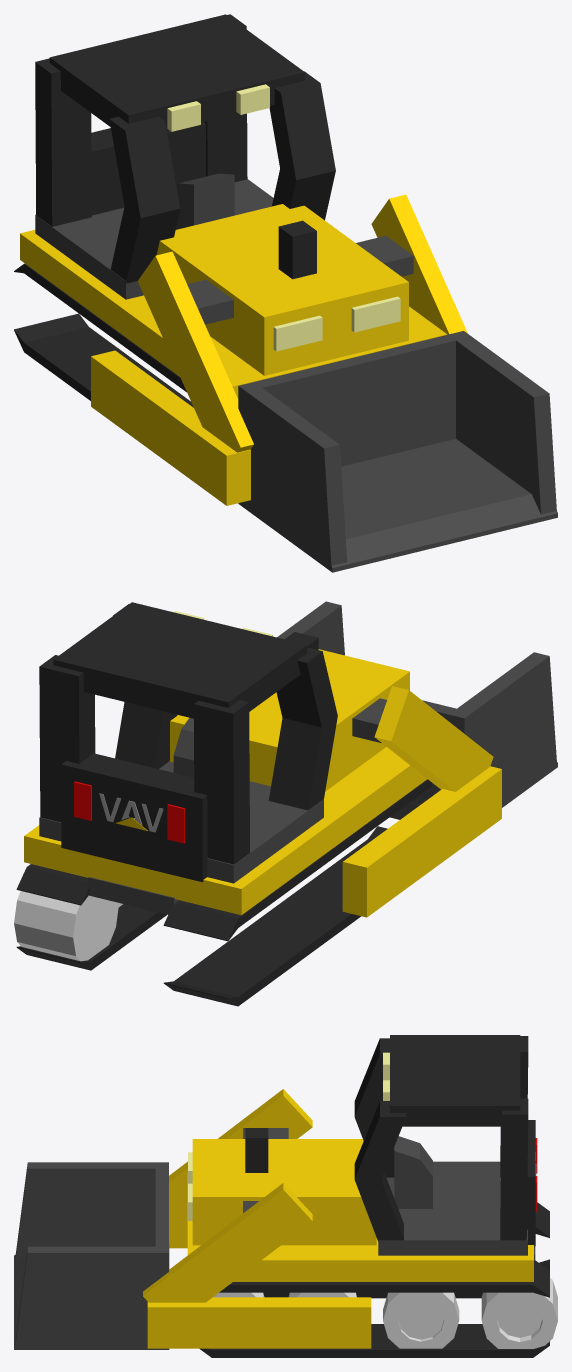
File: bulldozer.fbx
The picture shows the model from 3 angles, top to bottom: view 1: azimuth 30°, elevation 25°; view 2: azimuth 150°, elevation 25°; view 3: azimuth 270°, elevation 25°; orthographic projection. The views are drawn at different scales.
Visible parts, largest first — view 1: Cube.007; view 2: Cube.007, Model_0; view 3: Cube.007, Model_0, Model_0.001, Model_0.002.
Part boxes in pixels (x1=…): Cube.007: x1=14, y1=14, x2=557, y2=572; Cube.007: x1=16, y1=601, x2=557, y2=1006; Model_0: x1=14, y1=891, x2=118, y2=961; Cube.007: x1=14, y1=1035, x2=549, y2=1357; Model_0: x1=481, y1=1278, x2=557, y2=1348; Model_0.001: x1=383, y1=1292, x2=459, y2=1348; Model_0.002: x1=288, y1=1292, x2=356, y2=1297.
Size of the model in its own units: 404 by 419 by 846.
